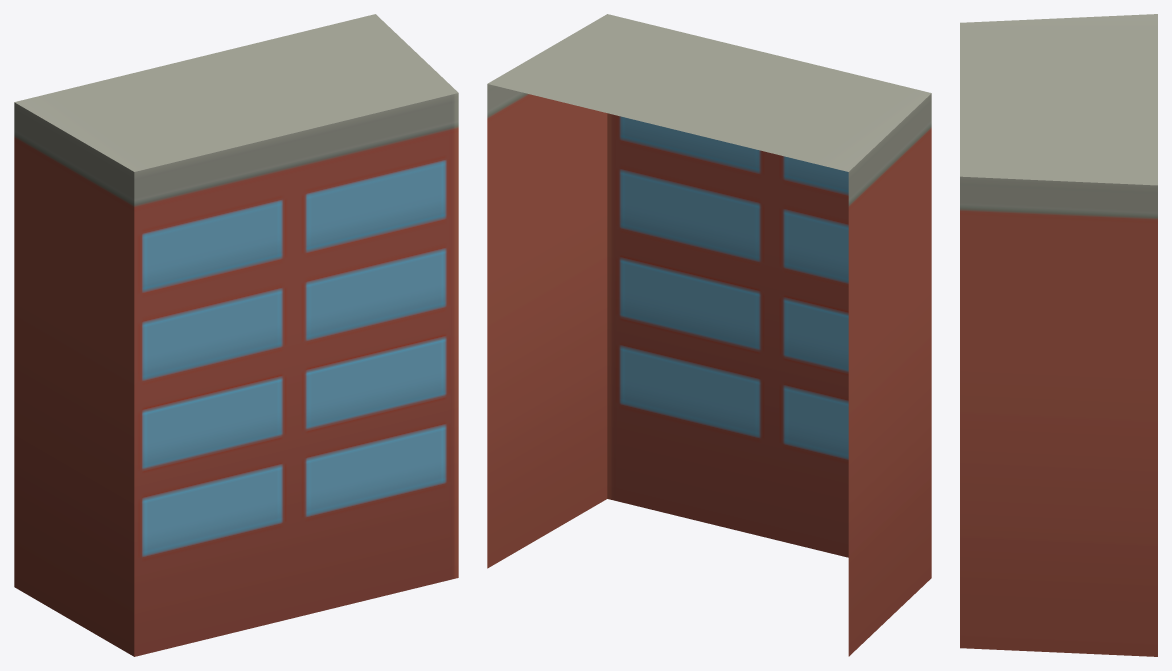
Rendered from Common_Building_11.fbx.
The picture shows the model from 3 angles, left to right: view 1: azimuth 30°, elevation 25°; view 2: azimuth 150°, elevation 25°; view 3: azimuth 270°, elevation 25°; orthographic projection. The views are drawn at different scales.
Parts seen in each view (by area): view 1: Common_Building_11; view 2: Common_Building_11; view 3: Common_Building_11.
Part boxes in pixels (x1,y1,x2,y2): Common_Building_11: (14,14,458,656); Common_Building_11: (487,14,931,656); Common_Building_11: (960,14,1157,656).
Size of the model in its own units: 3900 by 5000 by 1900.
